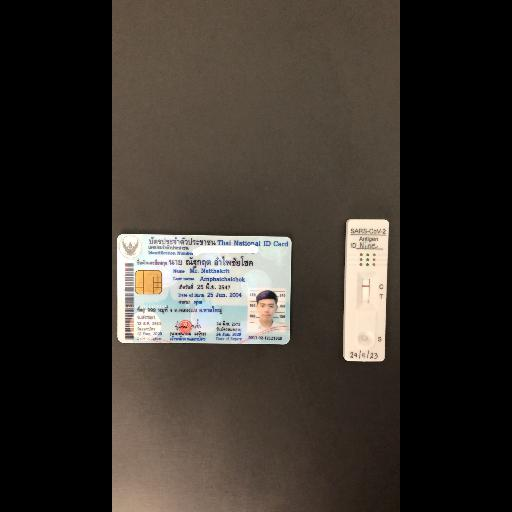Neg: (344, 217, 386, 361)
